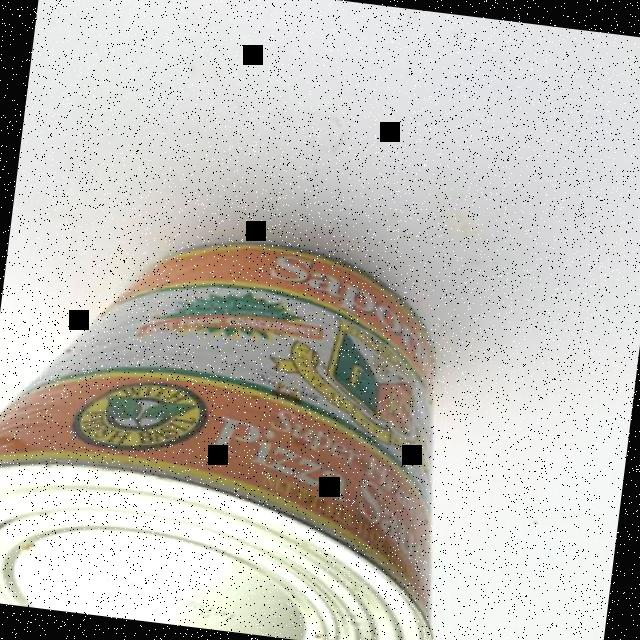can: (0, 209, 487, 640)
